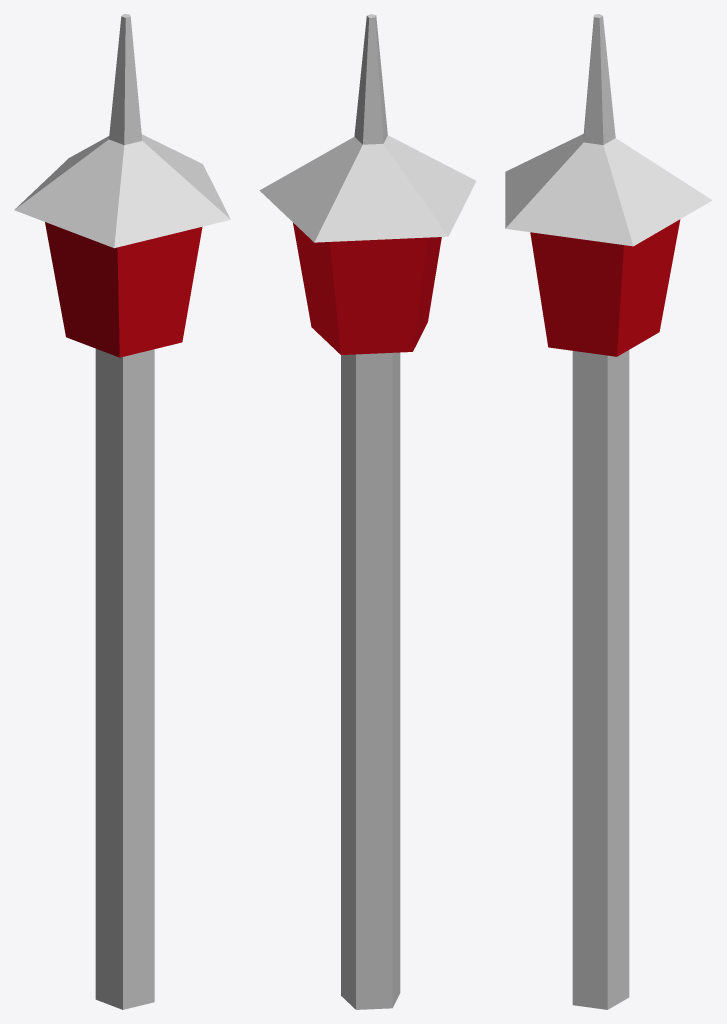
Rendered from lampe.fbx.
3 renders of one model, left to right at view 1: azimuth 30°, elevation 25°; view 2: azimuth 150°, elevation 25°; view 3: azimuth 270°, elevation 25°, orthographic.
Parts seen in each view (by area): view 1: Cylinder.001; view 2: Cylinder.001; view 3: Cylinder.001.
Part boxes in pixels (x1,y1,x2,y2): Cylinder.001: (14, 14, 230, 1009); Cylinder.001: (259, 14, 476, 1009); Cylinder.001: (505, 14, 712, 1009).
Size of the model in its own units: 83.49 by 79.41 by 414.
